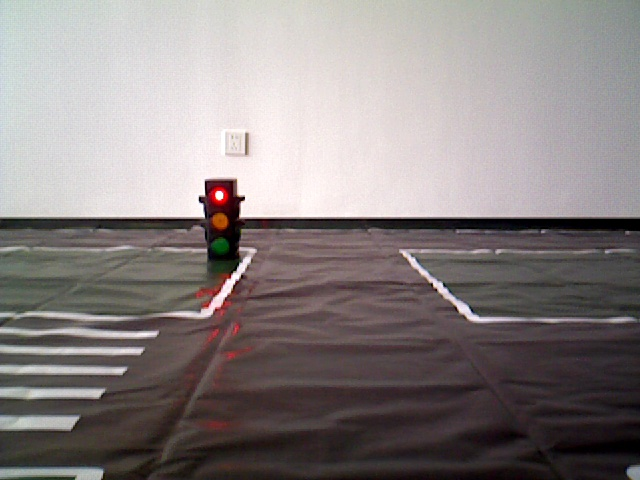red: (204, 178, 238, 266)
